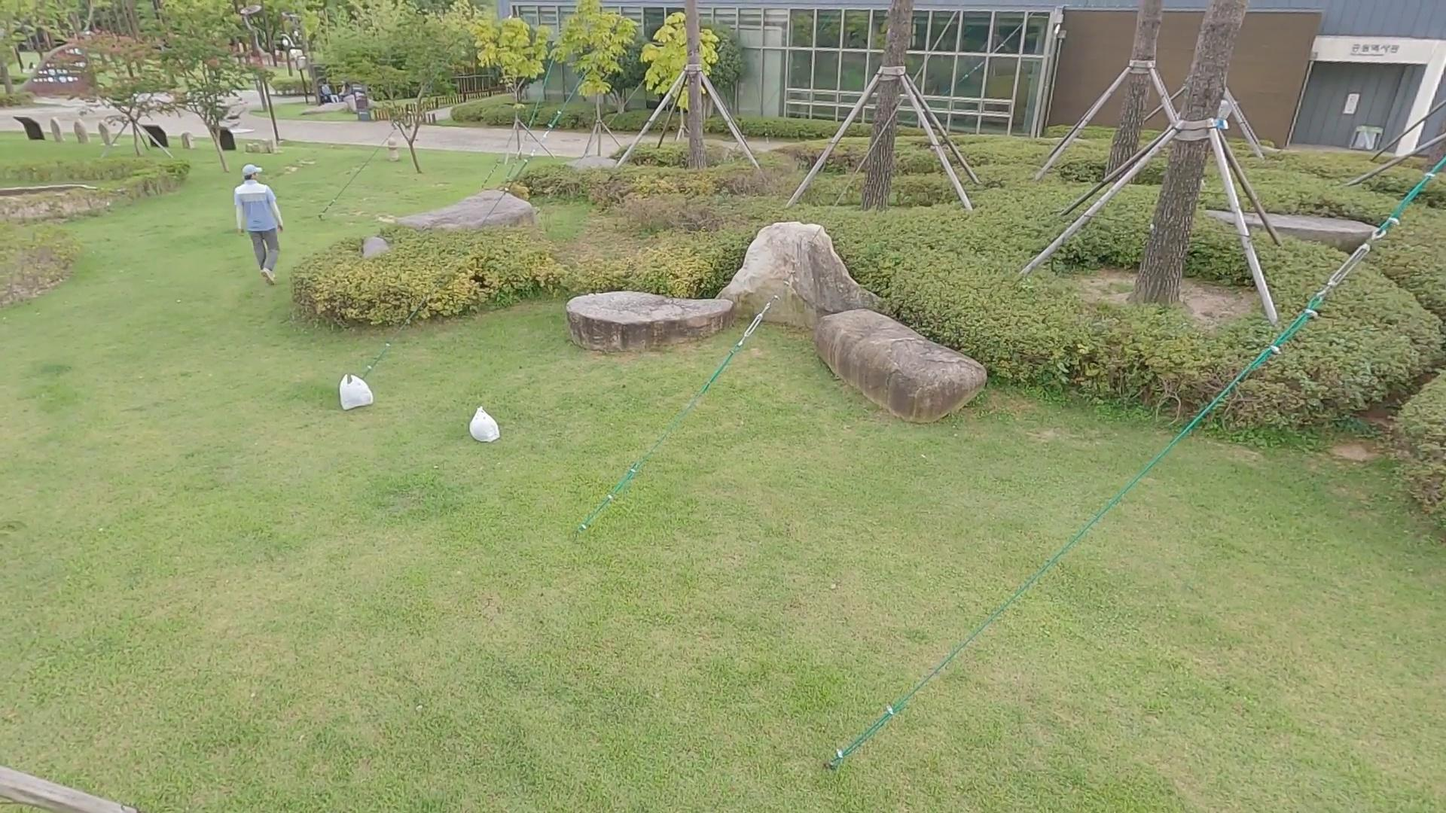person: (230, 156, 297, 290)
trash: (332, 369, 377, 412), (468, 402, 504, 448)
